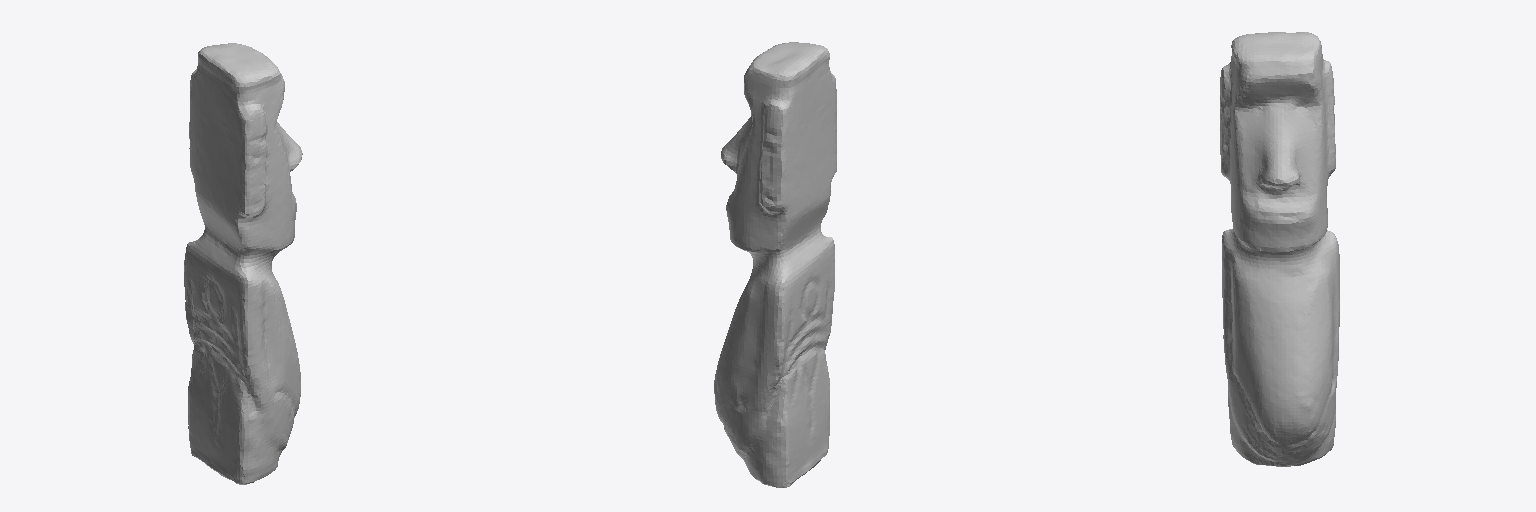
Rendered from maoi.obj.
3 renders of one model, left to right at view 1: azimuth 30°, elevation 25°; view 2: azimuth 150°, elevation 25°; view 3: azimuth 270°, elevation 25°, orthographic.
Parts seen in each view (by area): view 1: Mesh_0; view 2: Mesh_0; view 3: Mesh_0.
Part boxes in pixels (left/top/right/bottom): Mesh_0: left=184, top=43, right=302, bottom=484; Mesh_0: left=714, top=42, right=836, bottom=487; Mesh_0: left=1220, top=32, right=1339, bottom=466.
Size of the model in its own units: 0.962 by 4.23 by 1.12.